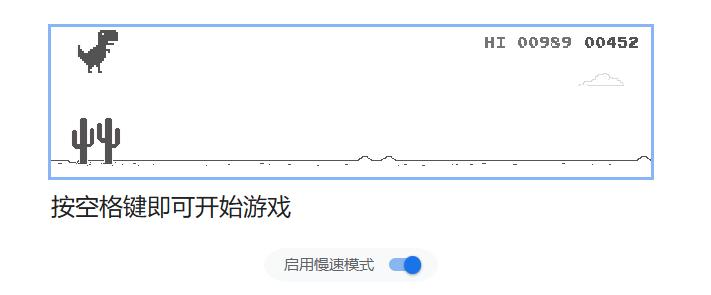cactus: (71, 117, 122, 166)
dino: (76, 29, 118, 74)
